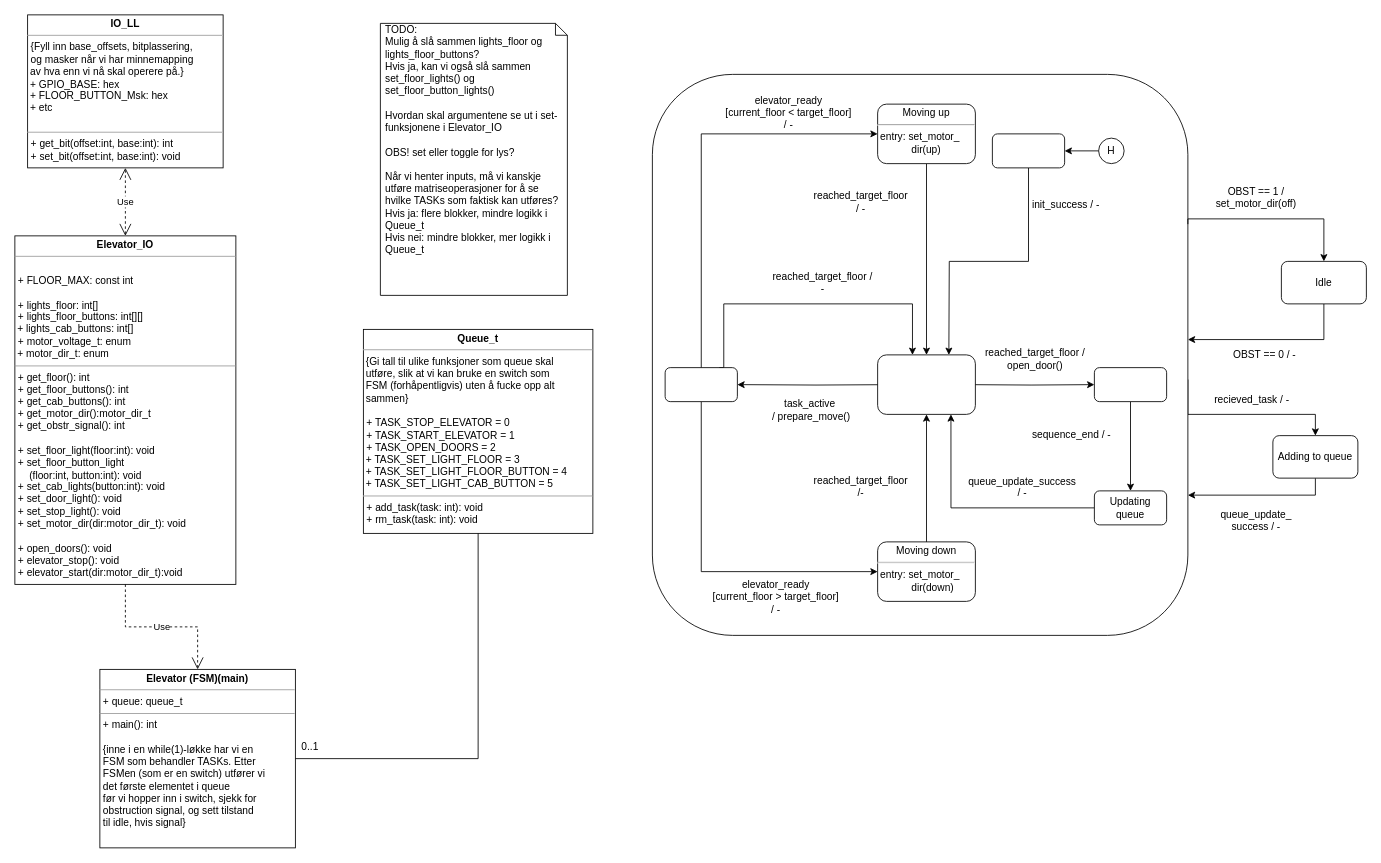
Some shapes in this 1381 by 863 pixel diagram are drawn without their labels. The centre of each missing label's shape, as x and y in pixels:
"Door opening sequence" goes at pixel 1130 384.
"Idle entry: set_motor_ dir(off)" goes at pixel 926 384.
"Init elevator" goes at pixel 1028 150.
"Preparing to move" goes at pixel 700 384.
